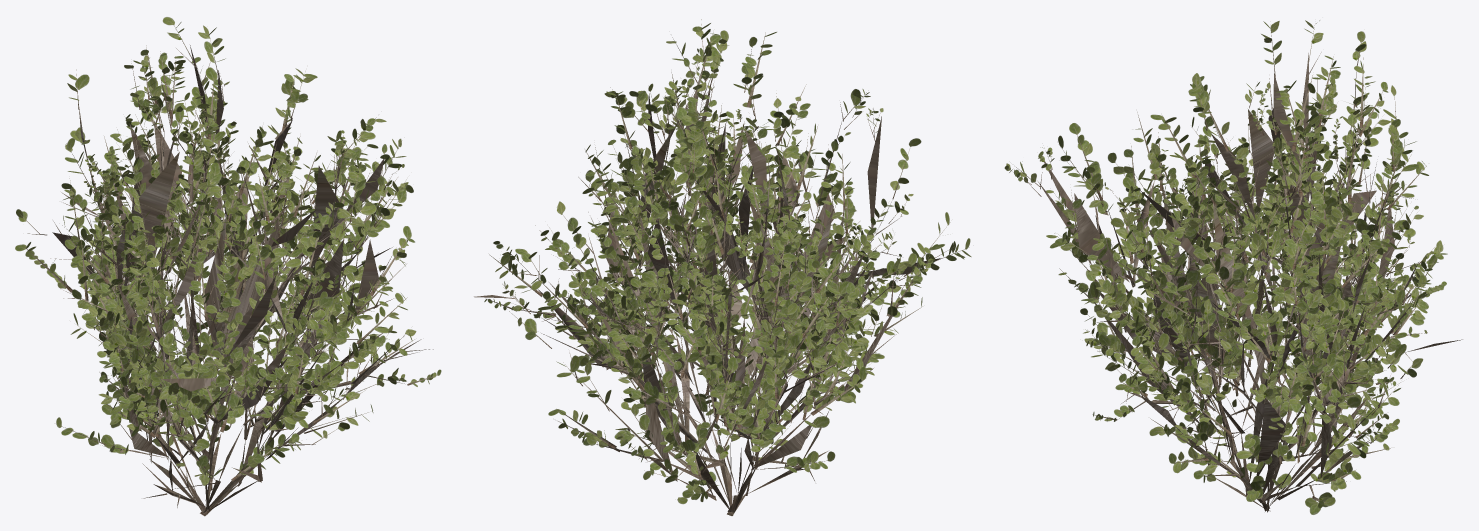
Rendered from searsia.glb.
3 renders of one model, left to right at view 1: azimuth 30°, elevation 25°; view 2: azimuth 150°, elevation 25°; view 3: azimuth 270°, elevation 25°, orthographic. The views are drawn at different scales.
Visible parts, largest first — view 1: searsia_lucida_a_LOD2, searsia_lucida_b_LOD2, searsia_lucida_c_LOD2; view 2: searsia_lucida_a_LOD2, searsia_lucida_b_LOD2, searsia_lucida_c_LOD2; view 3: searsia_lucida_a_LOD2, searsia_lucida_b_LOD2, searsia_lucida_c_LOD2.
Part boxes in pixels (box(x1,y1,x2,y2)): searsia_lucida_a_LOD2: box(15, 17, 441, 516); searsia_lucida_b_LOD2: box(56, 92, 397, 513); searsia_lucida_c_LOD2: box(70, 182, 407, 514); searsia_lucida_a_LOD2: box(474, 19, 971, 515); searsia_lucida_b_LOD2: box(578, 105, 893, 511); searsia_lucida_c_LOD2: box(585, 170, 937, 514); searsia_lucida_a_LOD2: box(1004, 20, 1462, 514); searsia_lucida_b_LOD2: box(1096, 82, 1434, 509); searsia_lucida_c_LOD2: box(1130, 137, 1417, 511).
Size of the model in its own units: 1.77 by 2.34 by 1.97.
Materials: 2 (2 with a texture image).
